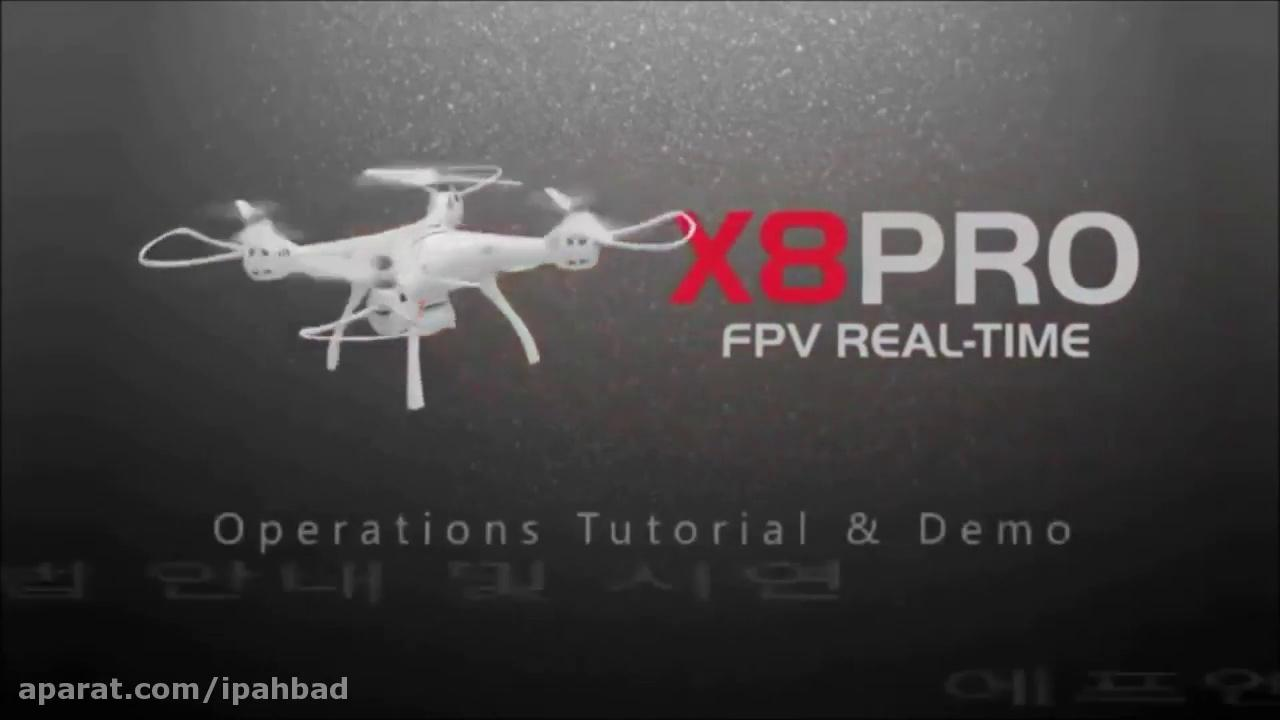drone: (136, 164, 699, 413)
